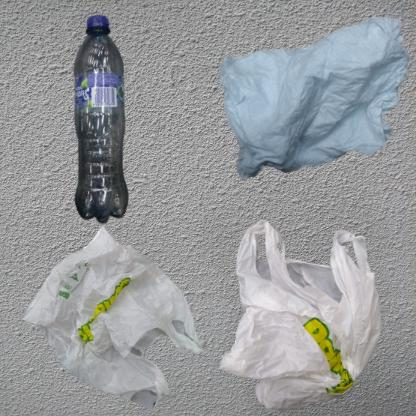bolsa: (10, 213, 215, 416), (213, 213, 403, 416)
botella: (10, 10, 233, 284)
papel: (213, 10, 416, 190)
